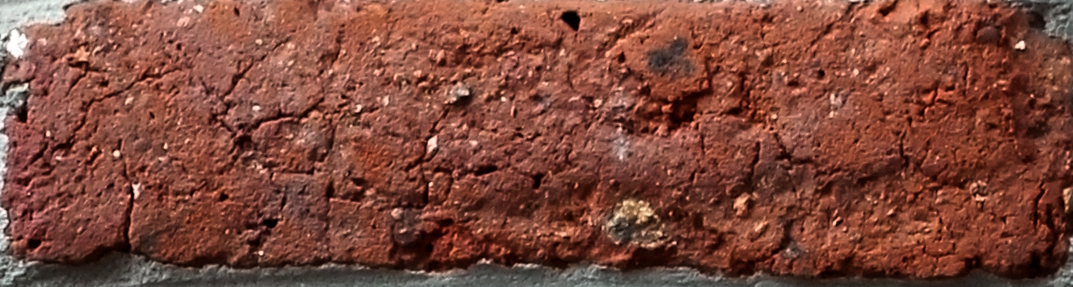redbrick: (1, 1, 1073, 287)
